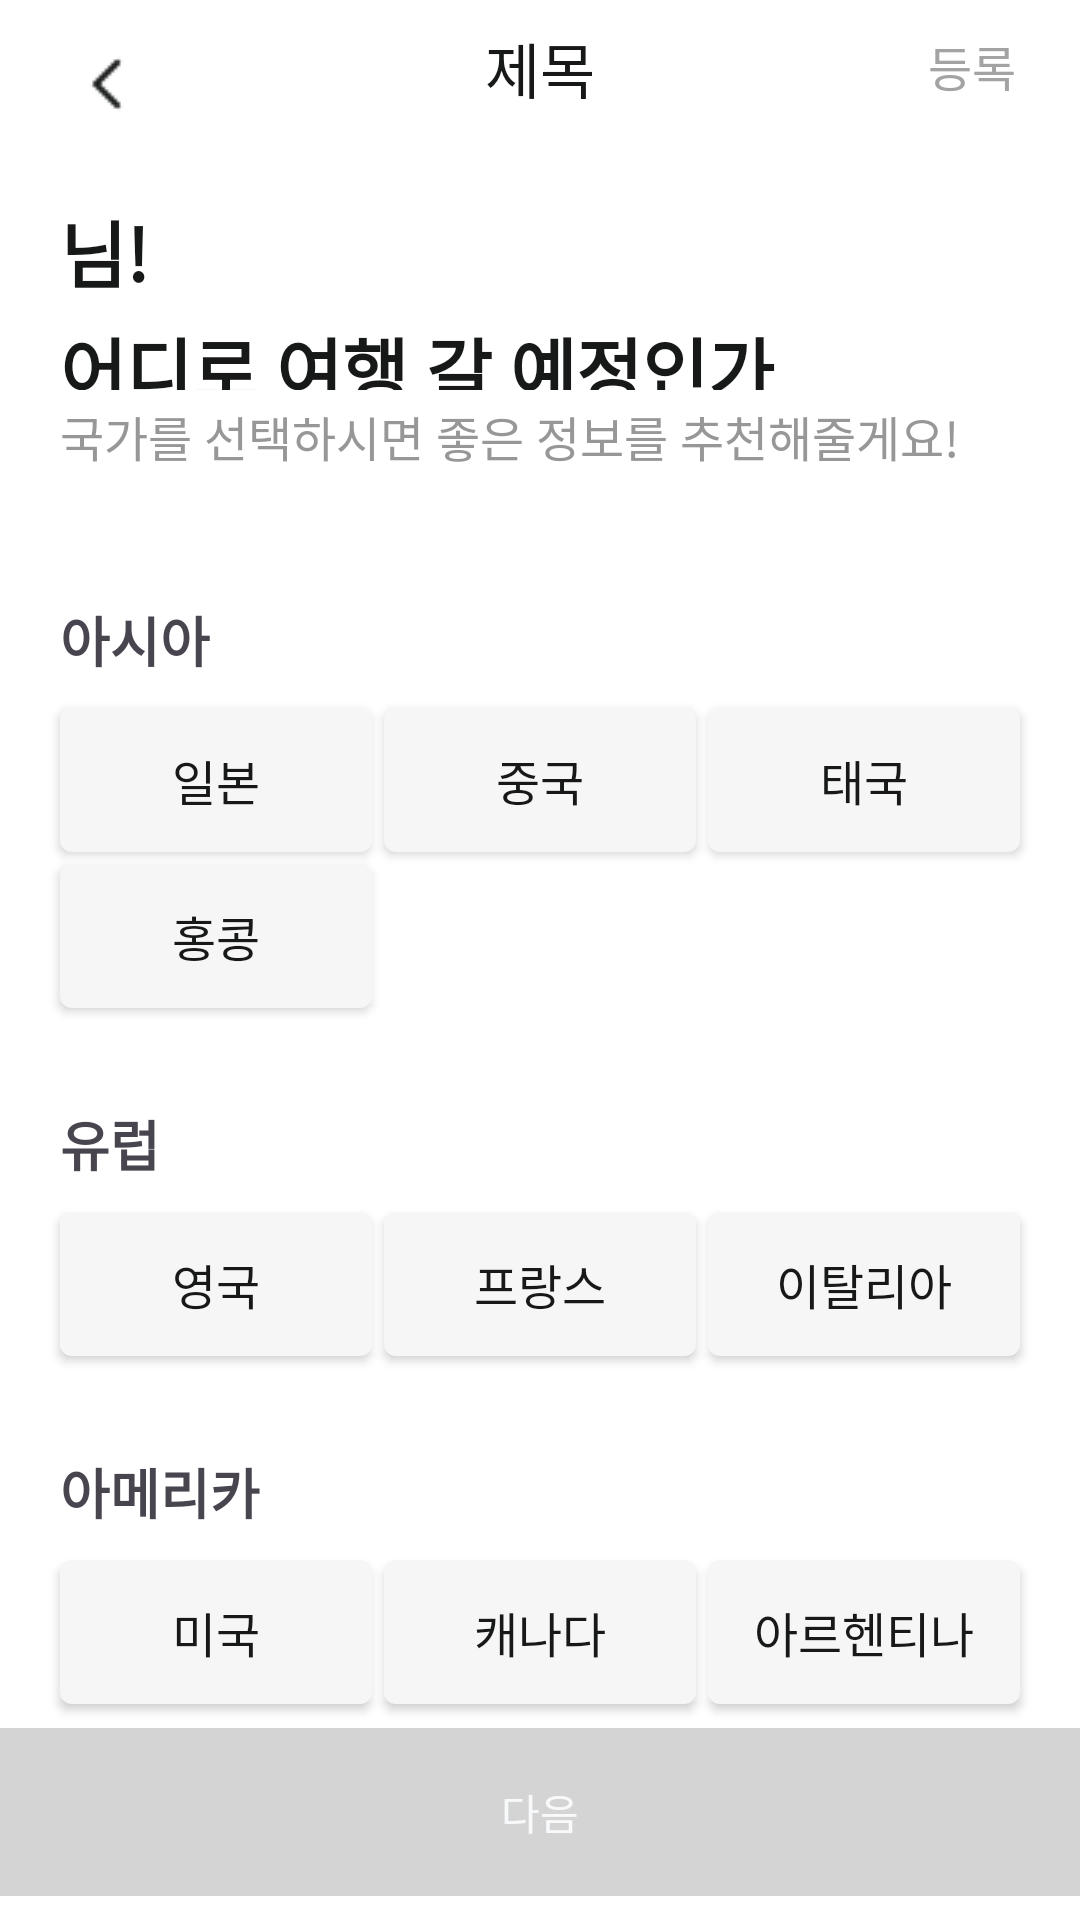

Named icons in this screenshot (1080 × 1920) and their centers, [x,y]:
arrow back: [106,84]
